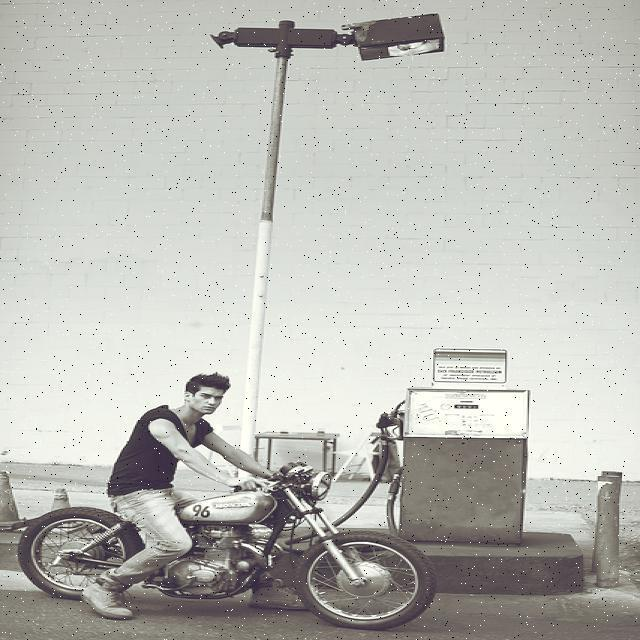motorcycle: (17, 460, 437, 632)
